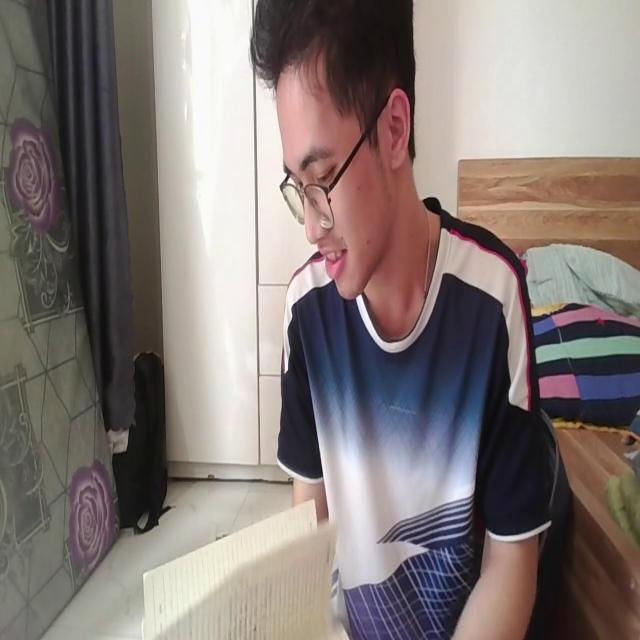book: (136, 492, 338, 640)
student: (248, 0, 552, 640)
